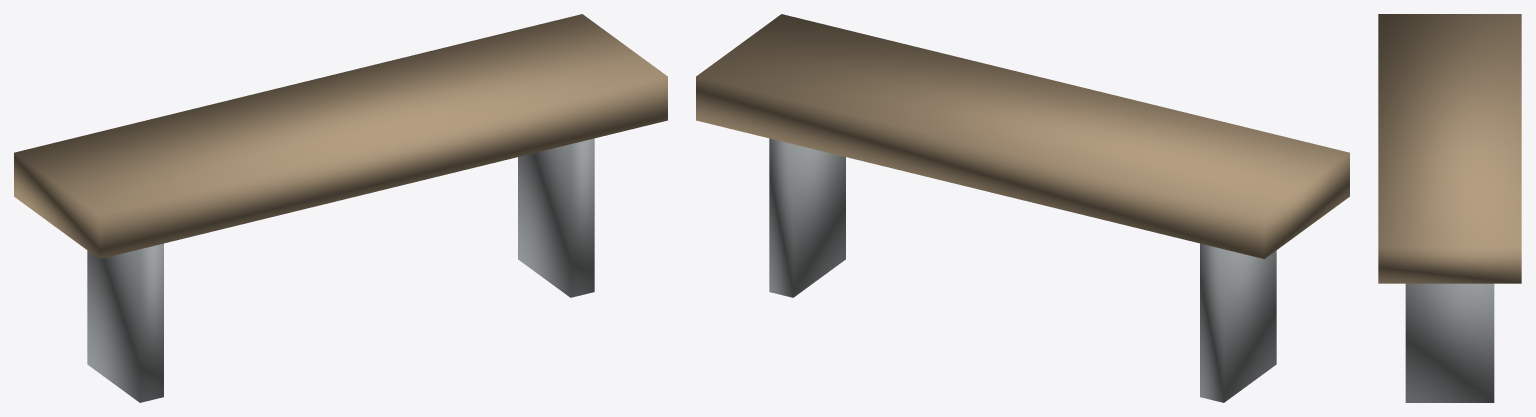
The model's file is holding_cell_bench__compact.glb.
3 renders of one model, left to right at view 1: azimuth 30°, elevation 25°; view 2: azimuth 150°, elevation 25°; view 3: azimuth 270°, elevation 25°, orthographic. The views are drawn at different scales.
Parts seen in each view (by area): view 1: world; view 2: world; view 3: world.
Part boxes in pixels (x1,y1,x2,y2): world: (14, 14, 667, 402); world: (696, 14, 1349, 402); world: (1378, 14, 1521, 402).
Bounding box in the file's own units: 1.39 × 0.4976 × 0.3612.
